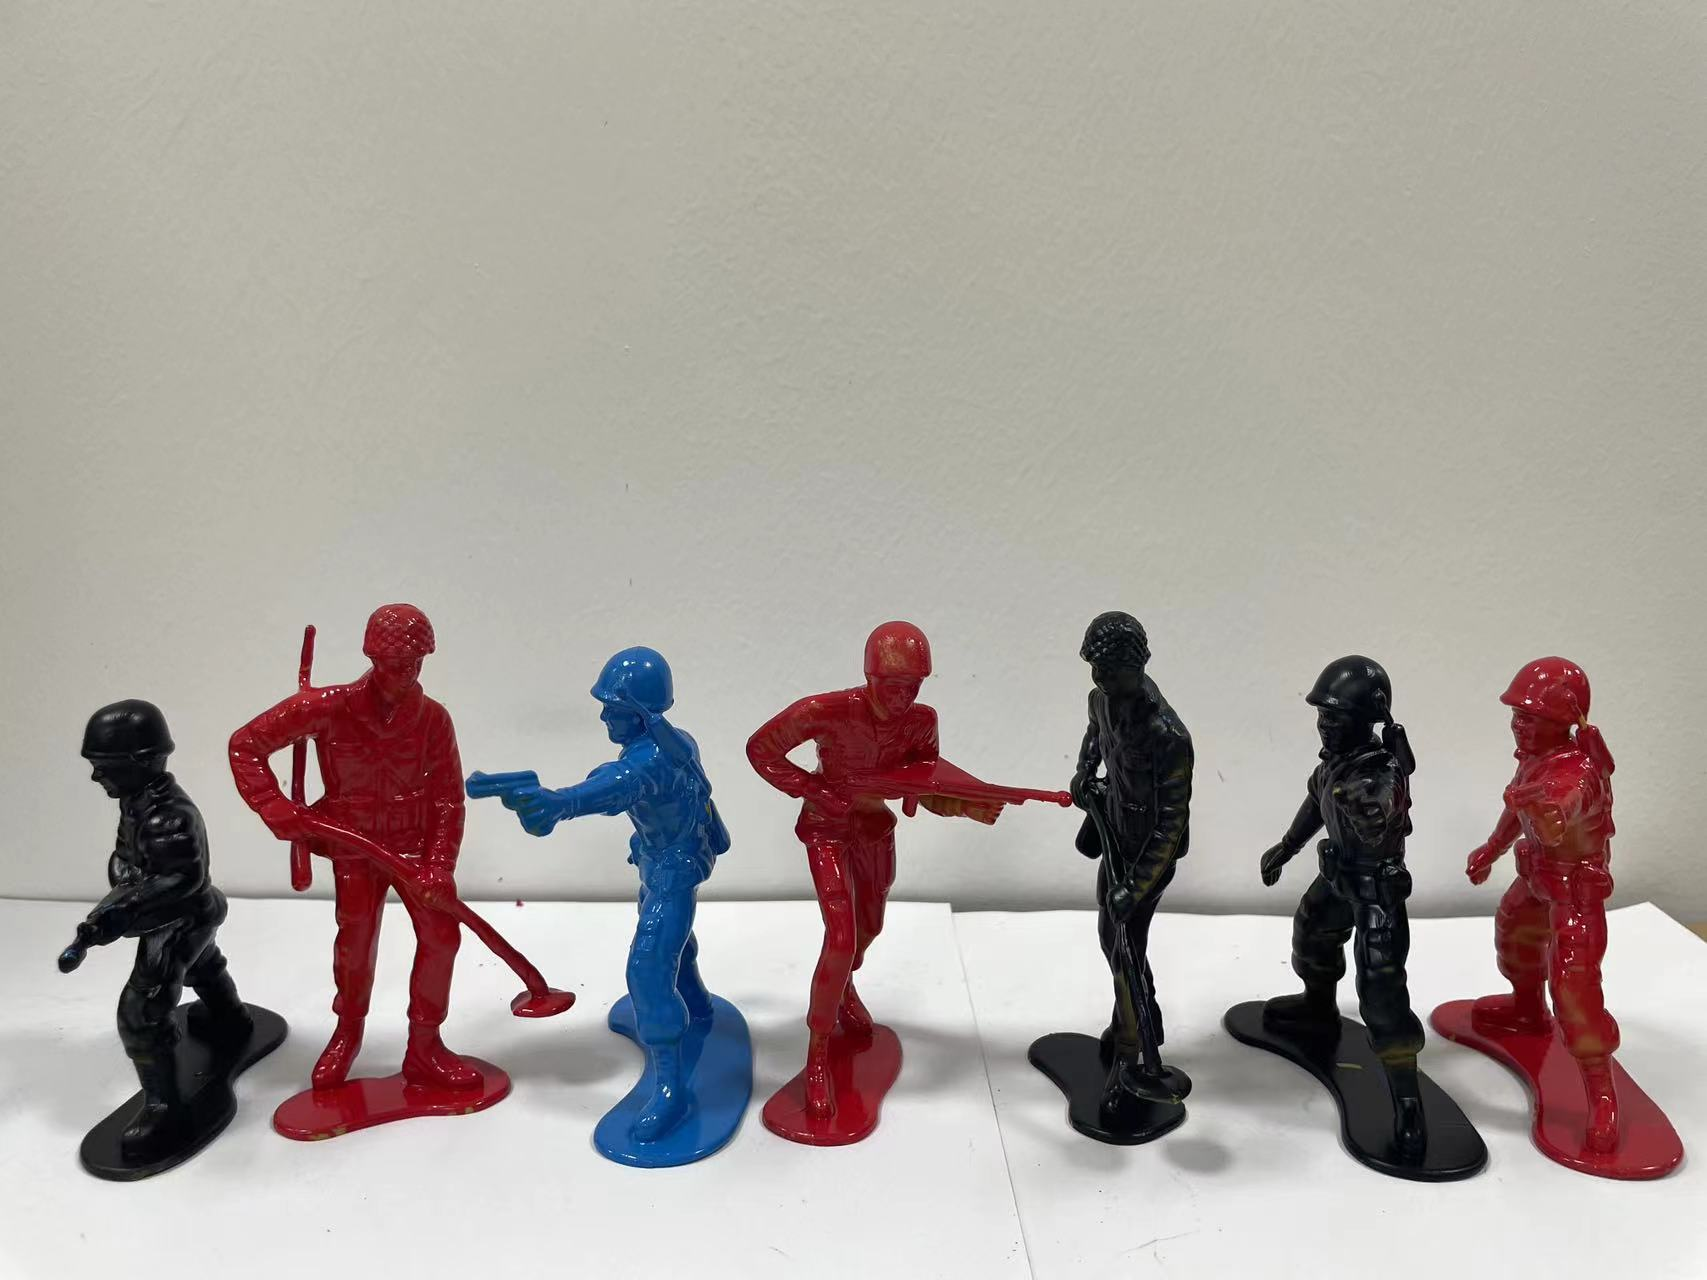black: (1239, 641, 1470, 1215), (1023, 597, 1218, 1182), (60, 660, 253, 1185)
blue: (487, 633, 754, 1185)
red: (737, 614, 1022, 1160), (226, 573, 493, 1152), (1456, 631, 1707, 1218)
